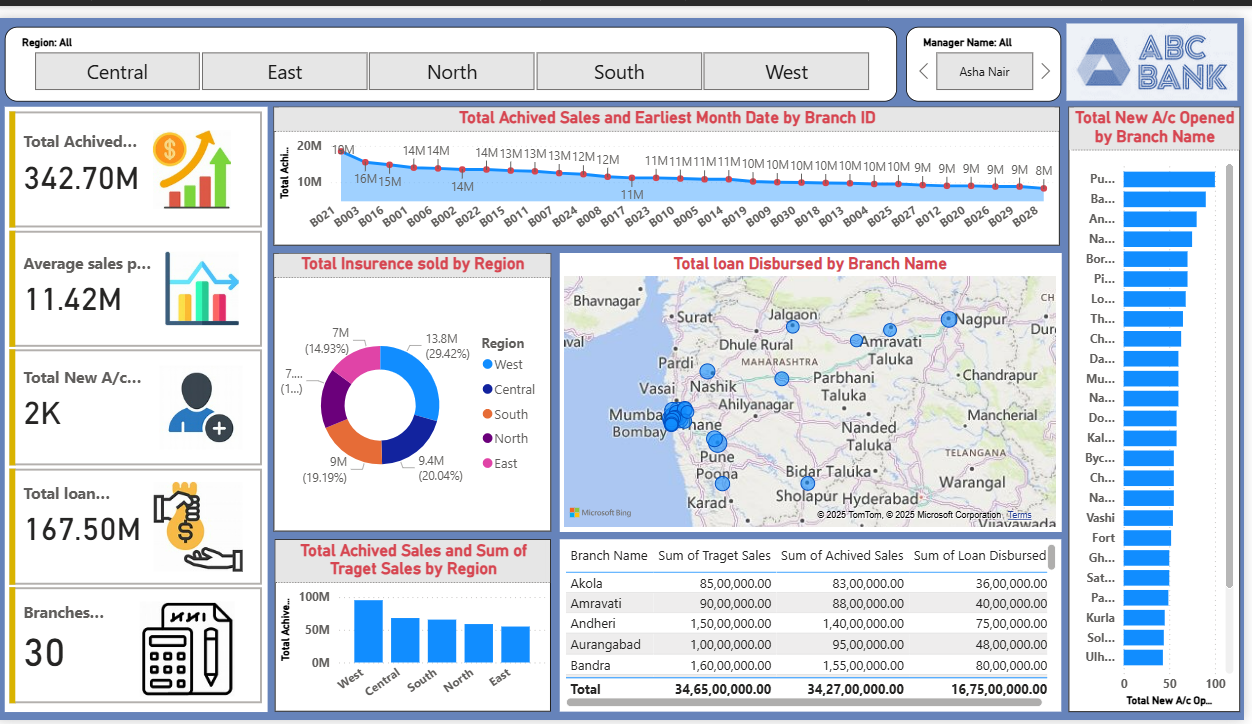

The dashboard page shown, as its layout file describes it:
{"tool":"powerbi","page":{"name":"Page 1","canvas":[1280,720],"ordinal":0},"visuals":[{"type":"columnChart","fields":{"Category":["Bank data.Region"],"Y":["Bank data.Total Achived Sales"]},"box":[285.9,535,283.4,176.7],"z":0},{"type":"cardVisual","fields":{"Data":["Bank data.Total Achived Sales","Bank data.Average sales per Branch","Bank data.Total New A/c Opened","Bank data.Total loan Disbursed","Bank data.Branches count"]},"box":[8.6,85.9,268.7,625.8],"z":1000},{"type":"image","box":[1092,0,187.7,137.4],"z":2000},{"type":"lineChart","fields":{"Y":["Bank data.Total Achived Sales"],"Category":["Bank data.Branch ID"]},"box":[285.9,85.9,806.1,138.7],"z":3000},{"type":"barChart","fields":{"Category":["Bank data.Branch Name"],"Y":["Bank data.Total New A/c Opened"]},"box":[1100.6,137.4,175.5,574.2],"z":4000},{"type":"donutChart","fields":{"Category":["Bank data.Region"],"Y":["Bank data.Total Insurence sold"]},"box":[285.9,233.1,283.4,293.3],"z":5000},{"type":"slicer","fields":{"Values":["Bank data.Region"]},"box":[8.6,8.6,912.9,68.7],"z":6000},{"type":"slicer","fields":{"Values":["Bank data.Manager Name"]},"box":[933.7,8.6,158.3,68.7],"z":7000},{"type":"tableEx","fields":{"Values":["Bank data.Branch Name","Bank data.Traget Sales","Bank data.Achived Sales","Bank data.Loan Disbursed"]},"box":[577.9,535,514.1,176.7],"z":8000},{"type":"map","fields":{"Category":["Bank data.Branch Name"],"Size":["Bank data.Total loan Disbursed"]},"box":[577.9,233.1,514.1,293.3],"z":9000}]}

Visuals, with their boxes on the page's 1280x720 design canvas (x1, y1, x2, y2). These are canvas units, not pixel positions in the 1252x724 screenshot, which may show the page scaled, cropped or inside an application window:
columnChart - Bank data.Region x Bank data.Total Achived Sales: bbox(286, 535, 569, 712)
cardVisual - Bank data.Total Achived Sales x Bank data.Average sales per Branch: bbox(9, 86, 277, 712)
image: bbox(1092, 0, 1280, 137)
lineChart - Bank data.Total Achived Sales x Bank data.Branch ID: bbox(286, 86, 1092, 225)
barChart - Bank data.Branch Name x Bank data.Total New A/c Opened: bbox(1101, 137, 1276, 712)
donutChart - Bank data.Region x Bank data.Total Insurence sold: bbox(286, 233, 569, 526)
slicer - Bank data.Region: bbox(9, 9, 922, 77)
slicer - Bank data.Manager Name: bbox(934, 9, 1092, 77)
tableEx - Bank data.Branch Name x Bank data.Traget Sales: bbox(578, 535, 1092, 712)
map - Bank data.Branch Name x Bank data.Total loan Disbursed: bbox(578, 233, 1092, 526)
